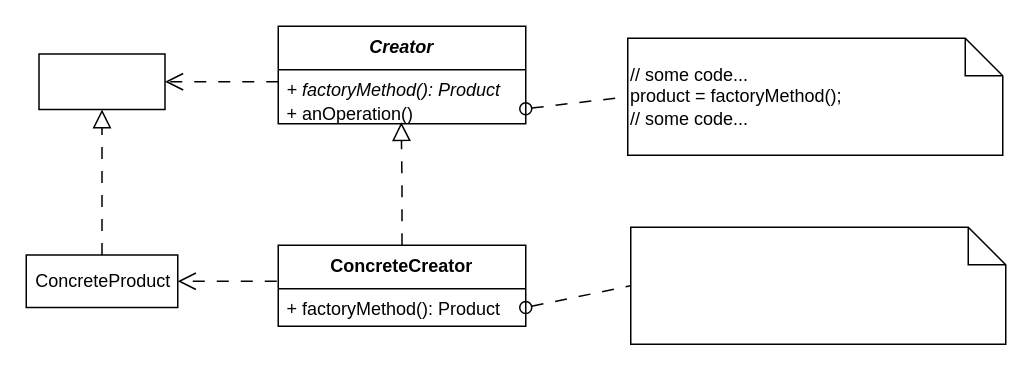
Image size: 1032x371. Some labels were removed from this diagram. Here are the shapes that lost their labels. From the top down, the box of each, then its label:
(38, 52, 165, 110): «interface» Product
(629, 226, 1006, 344): // some code... product= new ConcreteProduct (); // some code... return product;
